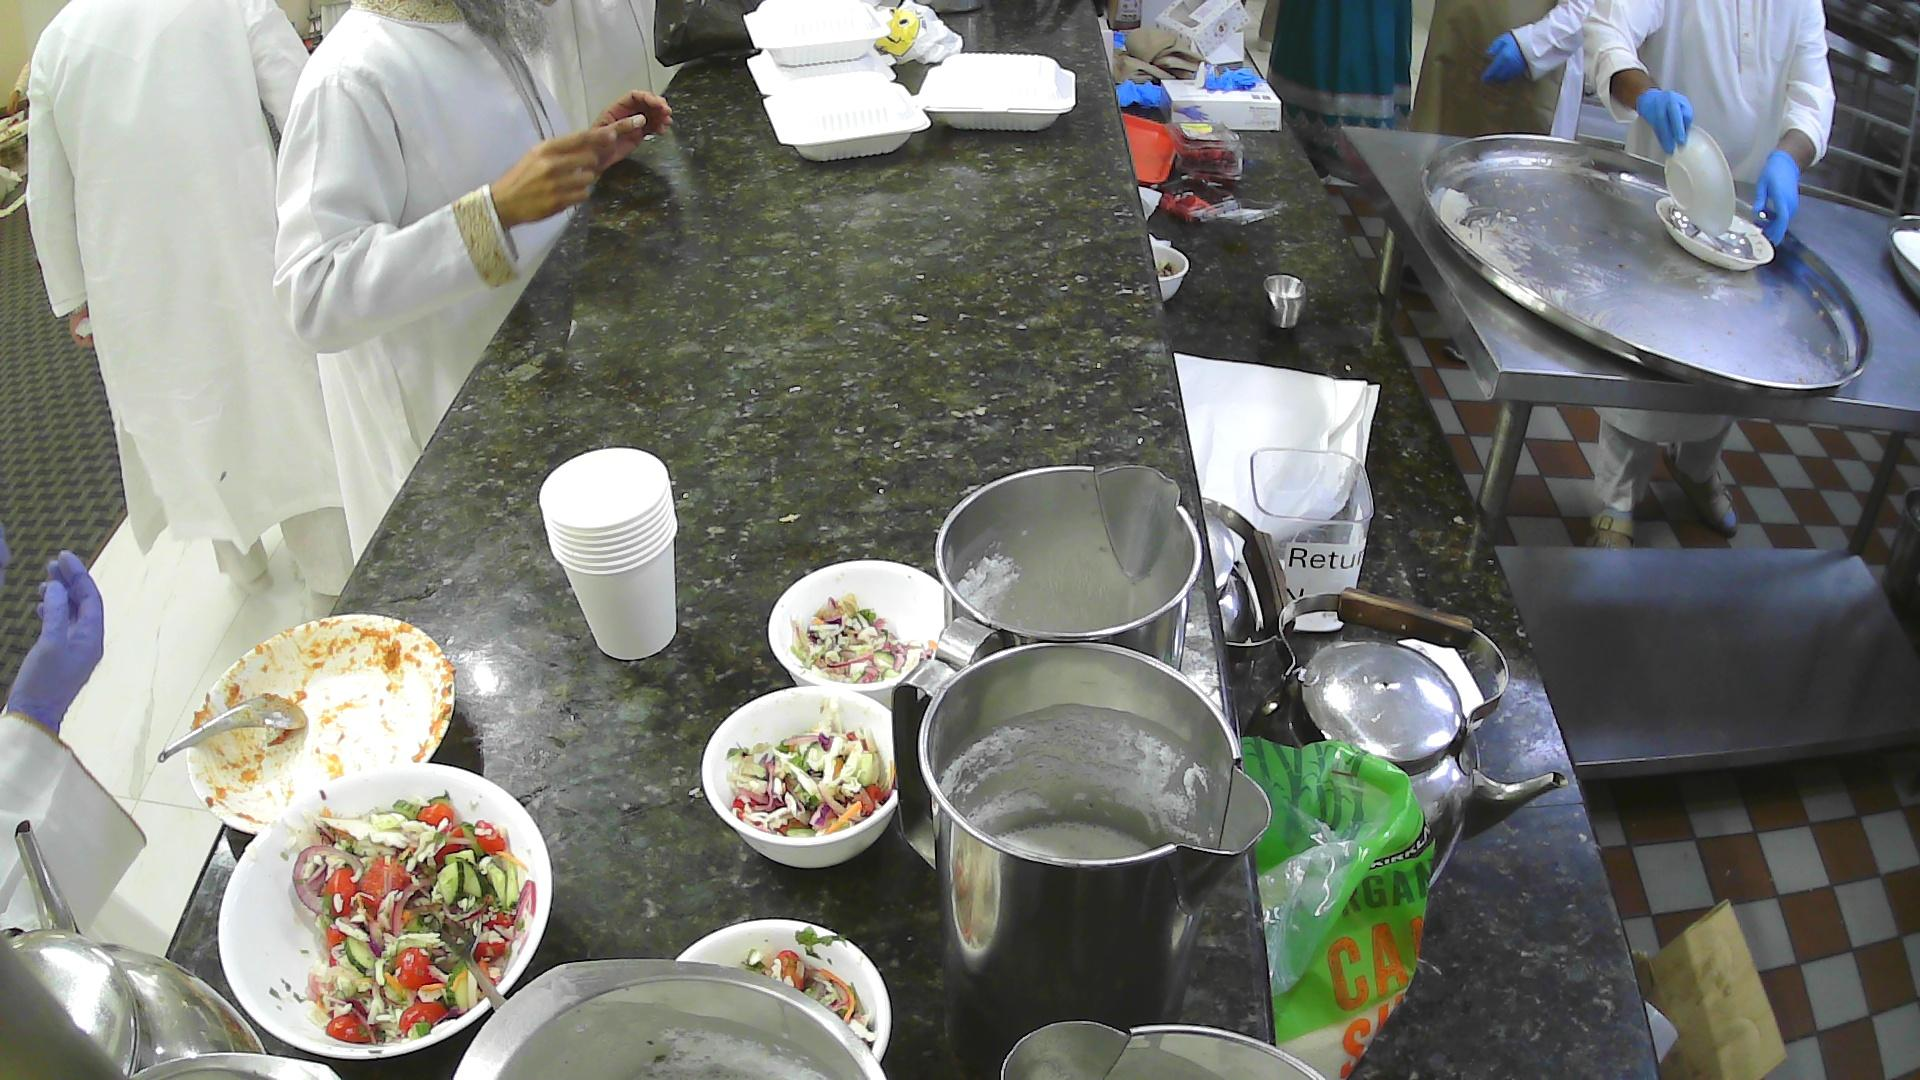thaal: (1416, 132, 1875, 400), (1887, 210, 1920, 306)
